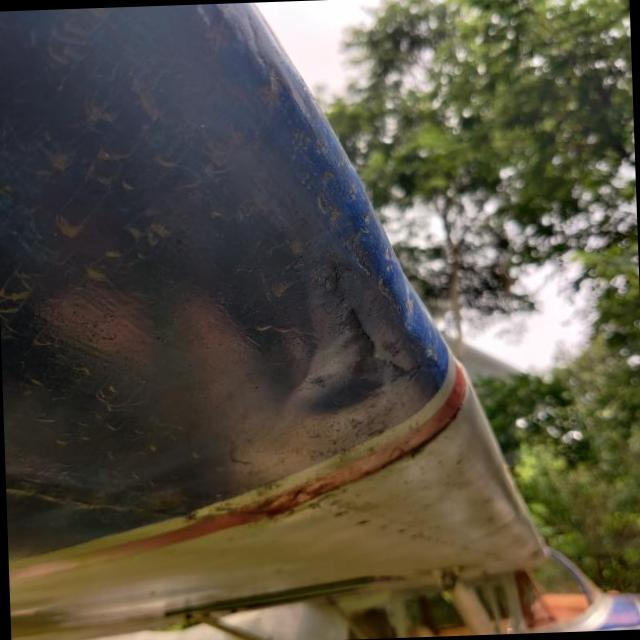Dent: (253, 264, 430, 458)
